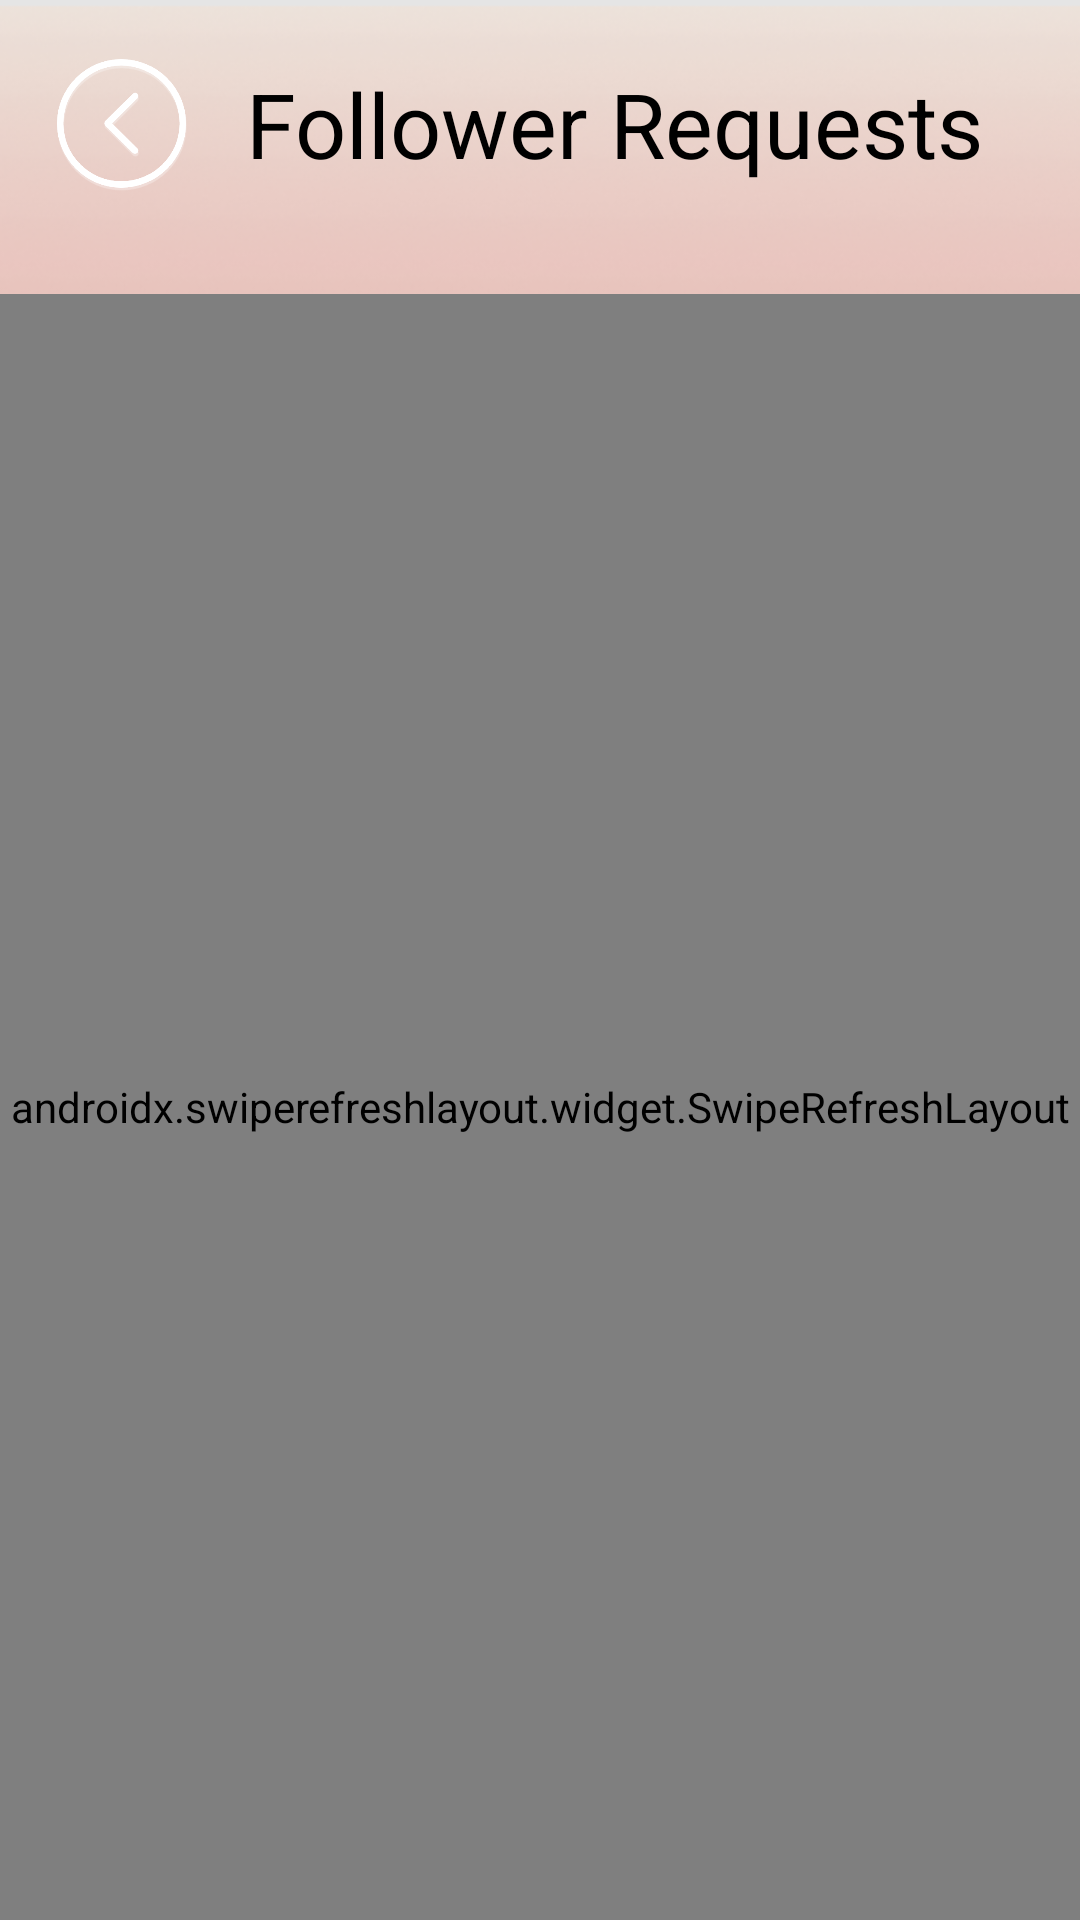

Locate icon controls on the screen. Image size 1080x1920, boxes as rect(x1, y1, x2, y2).
back: rect(57, 59, 186, 188)
